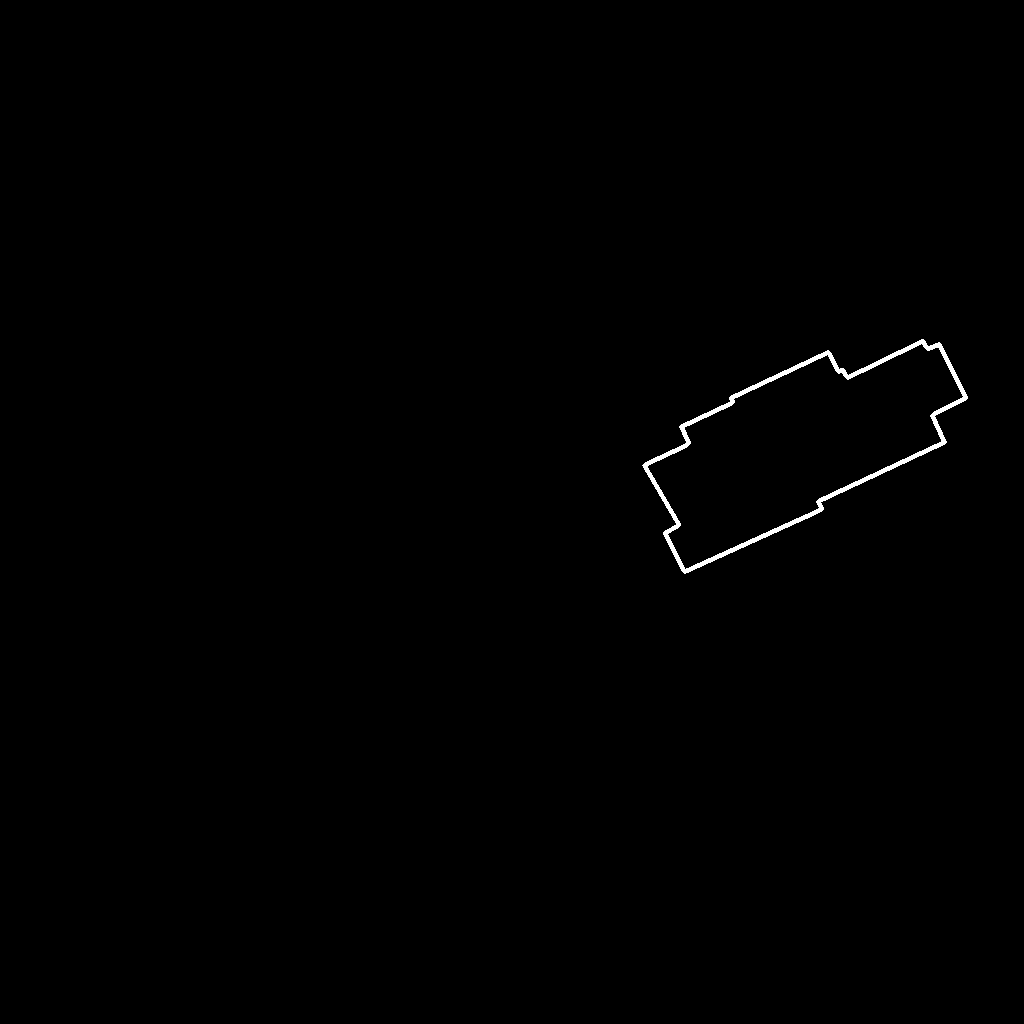building: (644, 341, 967, 573)
